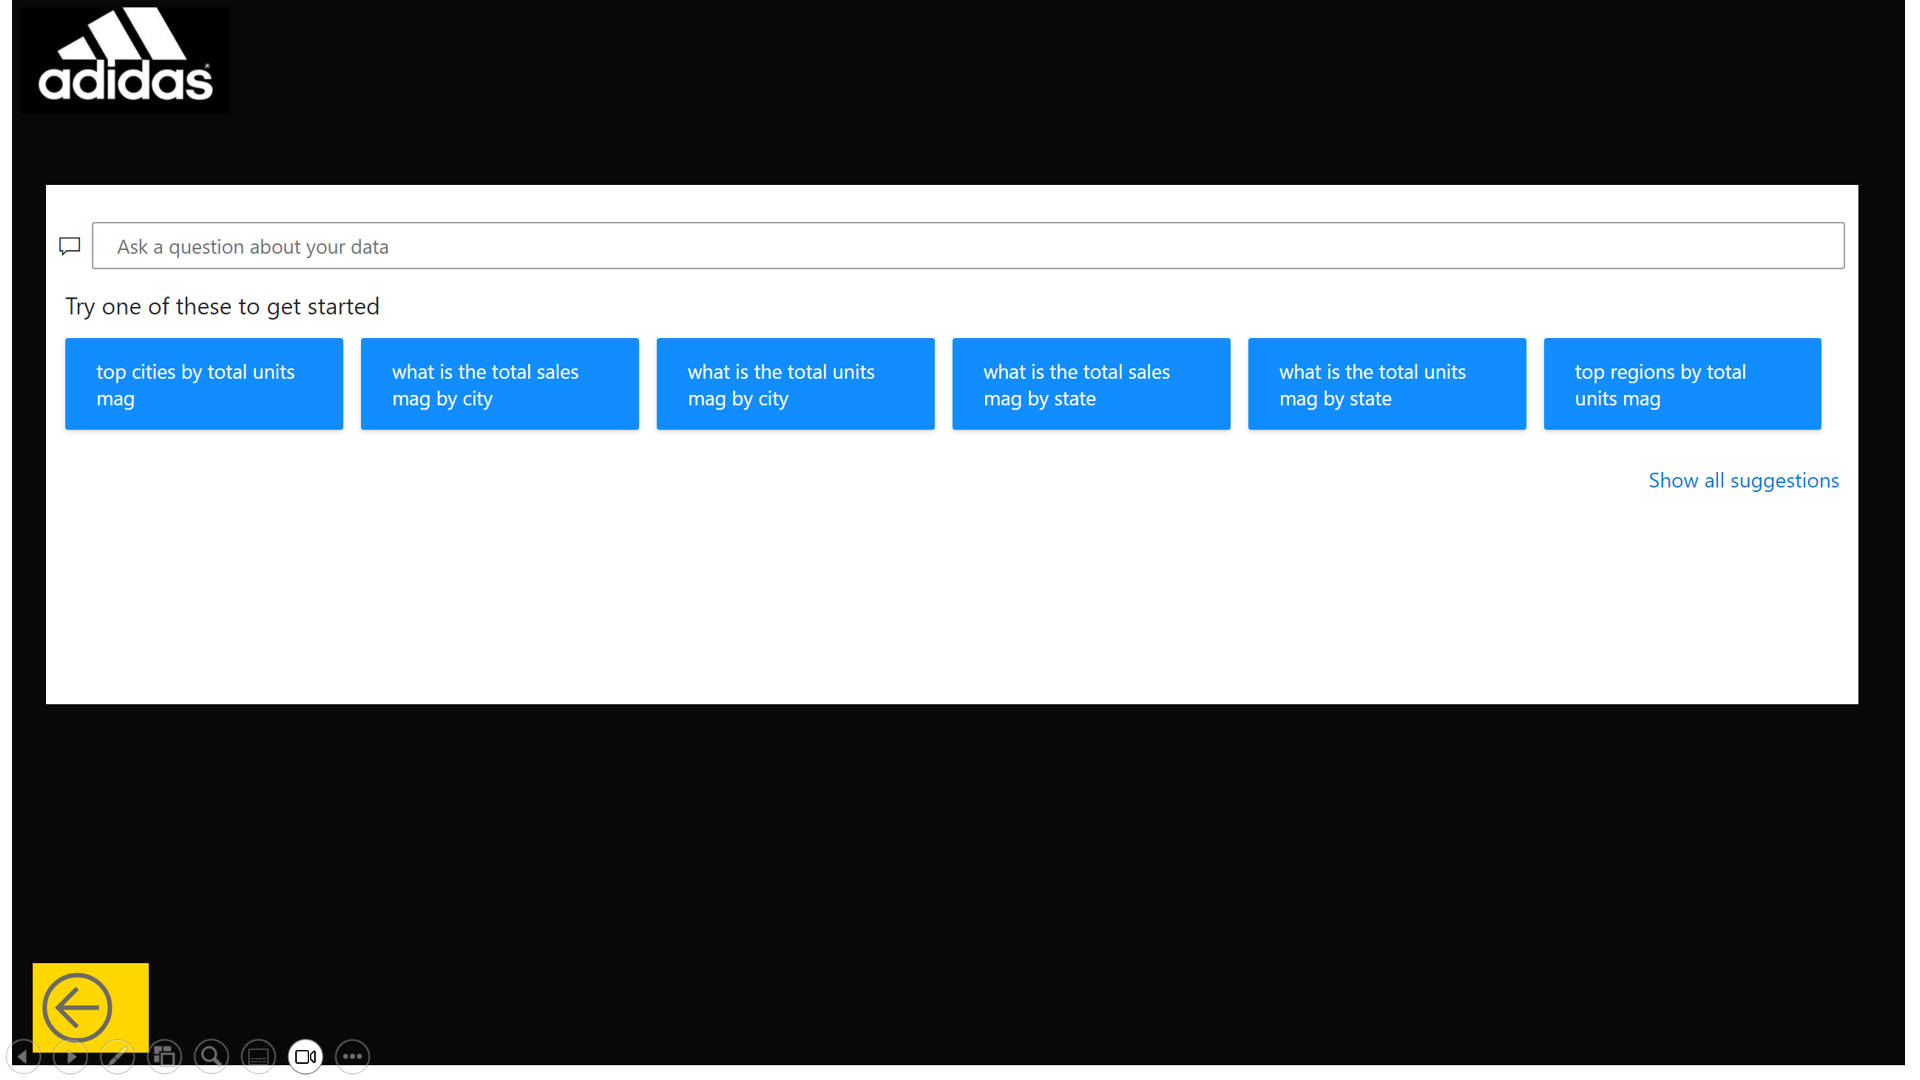

Layout of this report page (visuals, bound fields, positions):
{"tool":"powerbi","page":{"name":"Q & A","canvas":[1280,720],"ordinal":5},"visuals":[{"type":"actionButton","box":[14.5,651.5,78.4,60.3],"z":0},{"type":"image","box":[0,0,152,82],"z":1000},{"type":"qnaVisual","box":[22.9,125.5,1225.7,351.1],"z":2000}]}

Visuals, with their boxes in screenshot pixels (x1, y1, x2, y2), scaled from the page's 1280x720 canvas onto the 1920x1080 screenshot:
actionButton: x1=22, y1=977, x2=139, y2=1068
image: x1=0, y1=0, x2=228, y2=123
qnaVisual: x1=34, y1=188, x2=1873, y2=715
